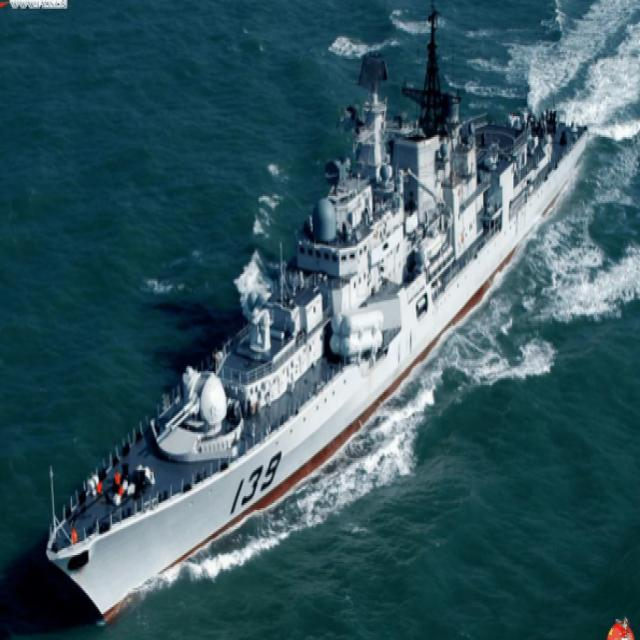navalvessels: (43, 41, 595, 624)
